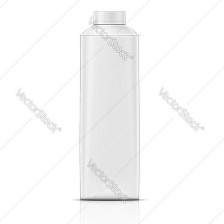carton: (69, 5, 151, 206)
